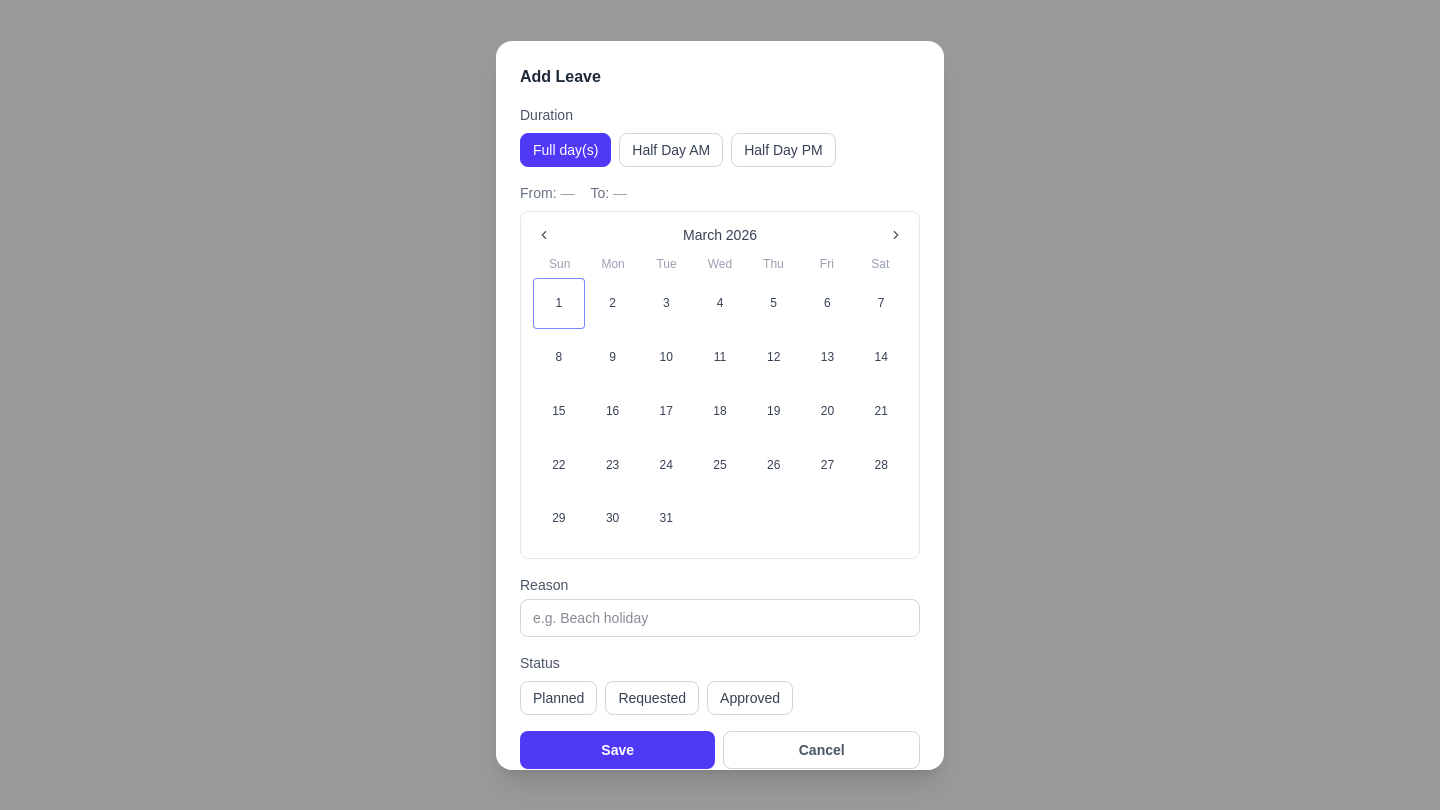
Test: AddLeaveModal — allowance limit validation › shows the limit warning when adding leave would exceed the allowance
Step 1. Click the button named "2026-03-16" → (613, 411), box [587,385,638,437]
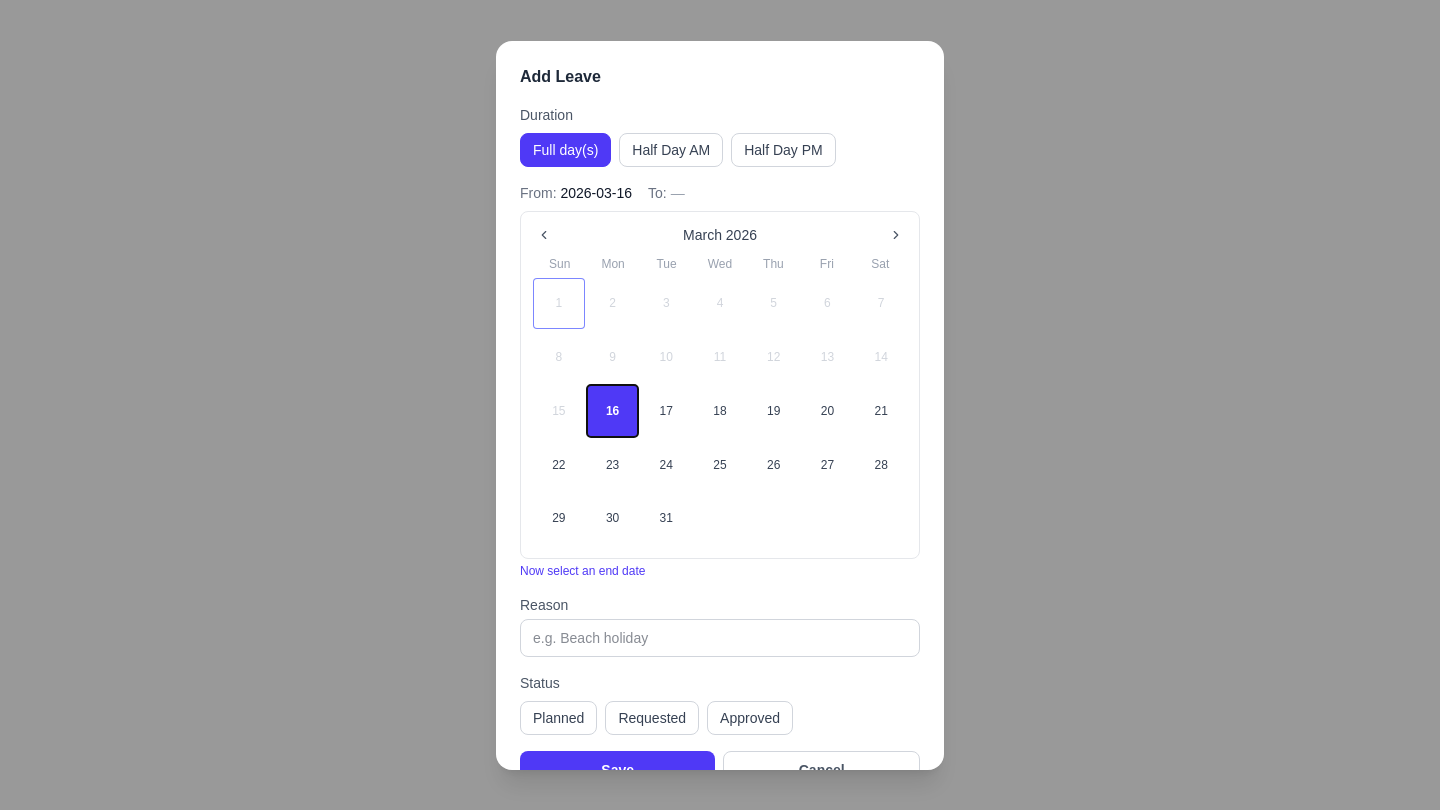
Step 2. Click the button named "2026-03-20" → (827, 411), box [802,385,853,437]
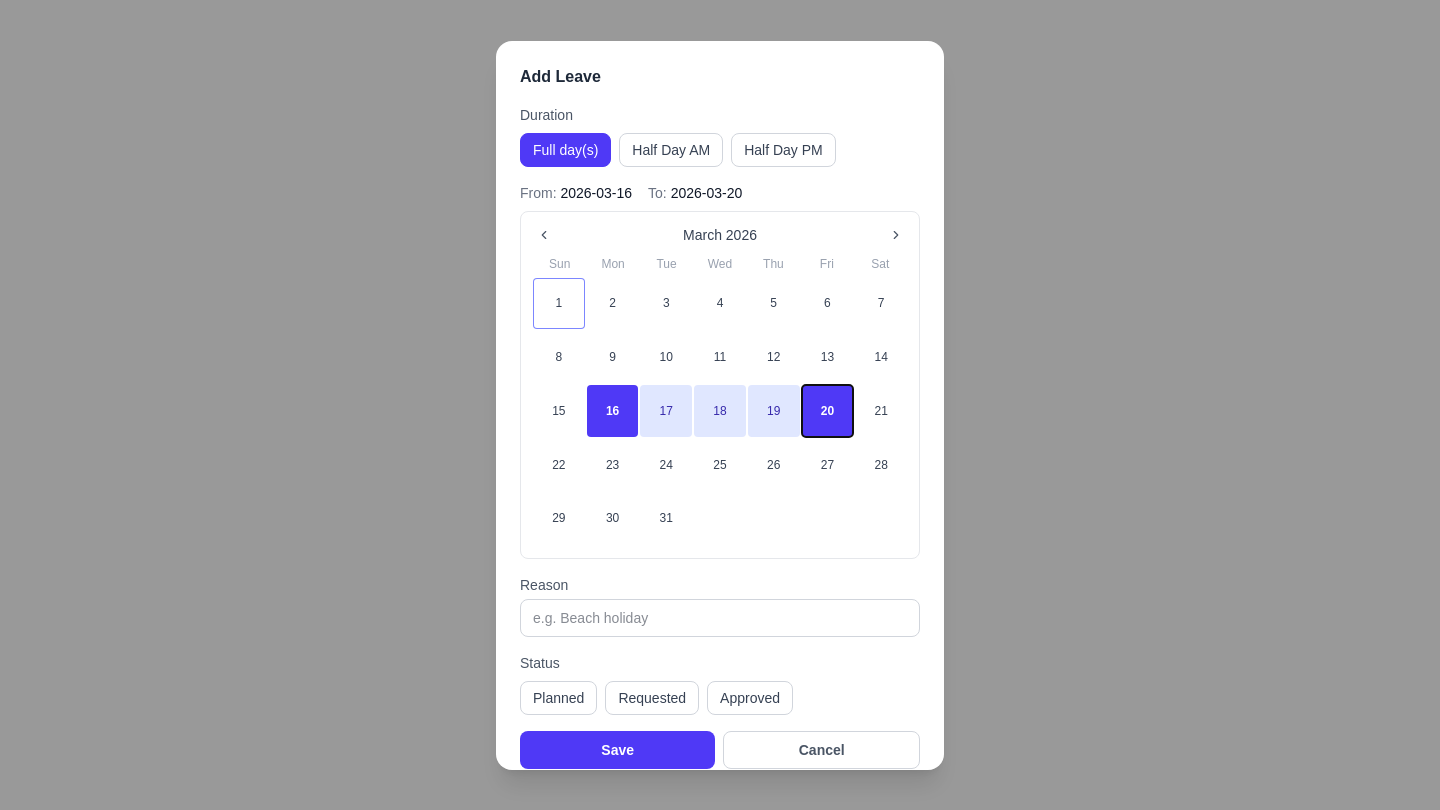
Step 3. Click the button "Planned" → (559, 698), box [520,681,597,715]
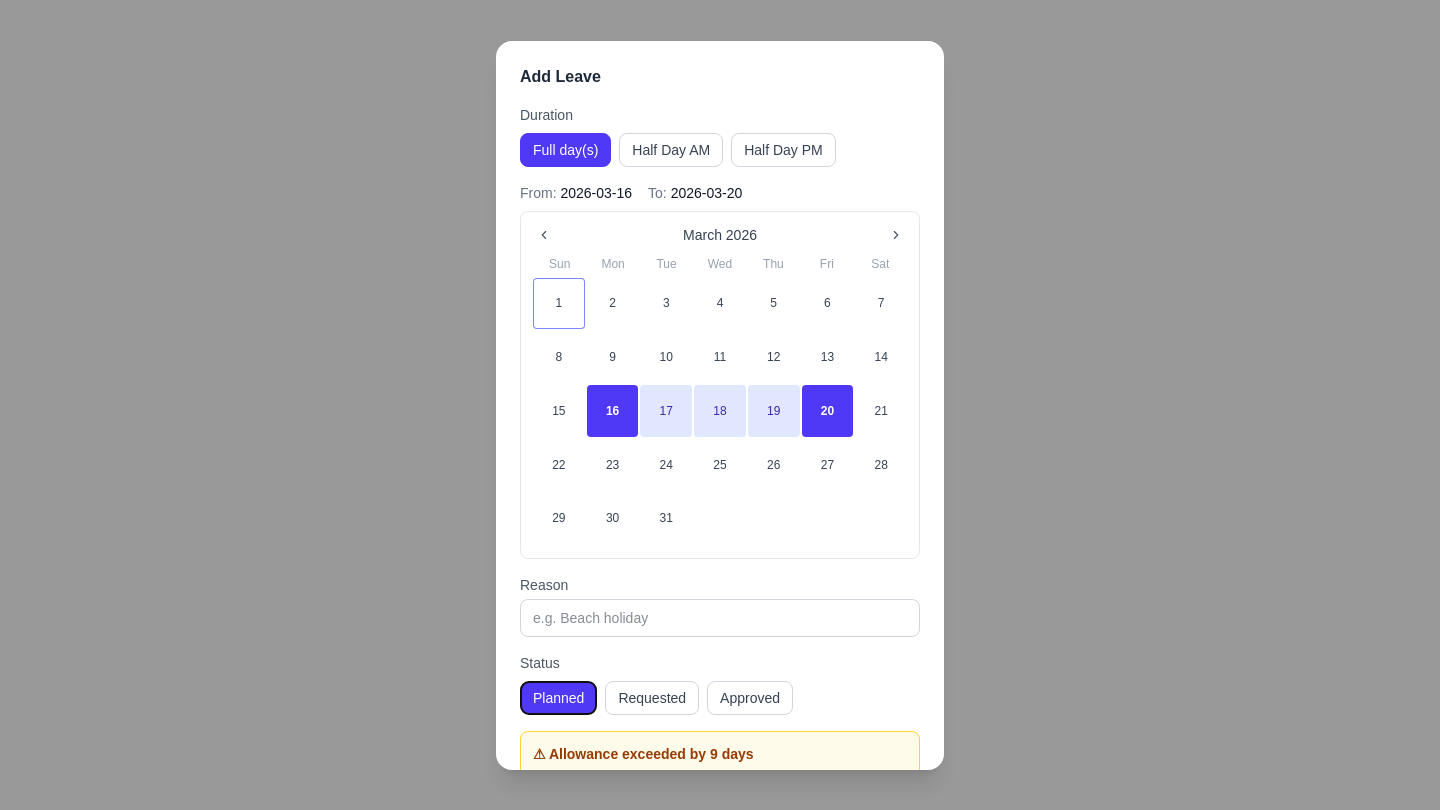
Expected: the text "⚠ Allowance exceeded by 9 days" is shown, [533,746,754,762]
